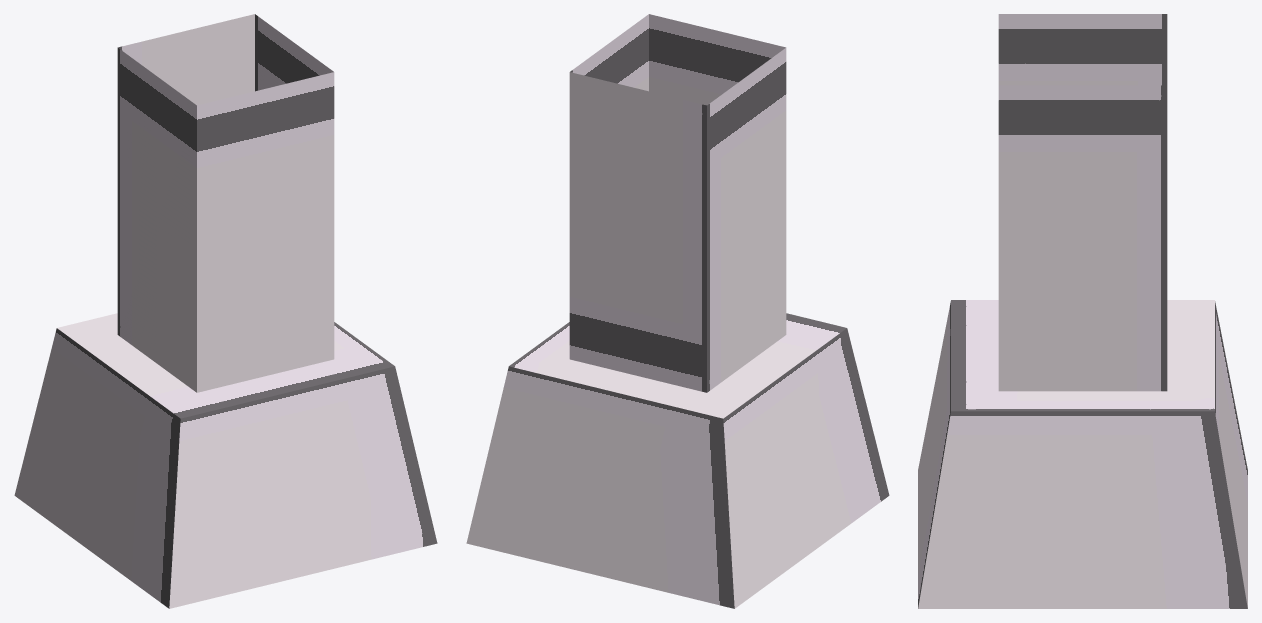
The picture shows the model from 3 angles, left to right: view 1: azimuth 30°, elevation 25°; view 2: azimuth 150°, elevation 25°; view 3: azimuth 270°, elevation 25°; orthographic projection. The views are drawn at different scales.
Parts seen in each view (by area): view 1: Joint_0_Object_0; view 2: Joint_0_Object_0; view 3: Joint_0_Object_0.
Boxes of the visible parts, bbox=[...] form: Joint_0_Object_0: bbox=[14, 14, 437, 608]; Joint_0_Object_0: bbox=[466, 14, 889, 608]; Joint_0_Object_0: bbox=[918, 14, 1247, 608].
Size of the model in its own units: 488 by 800 by 488.
